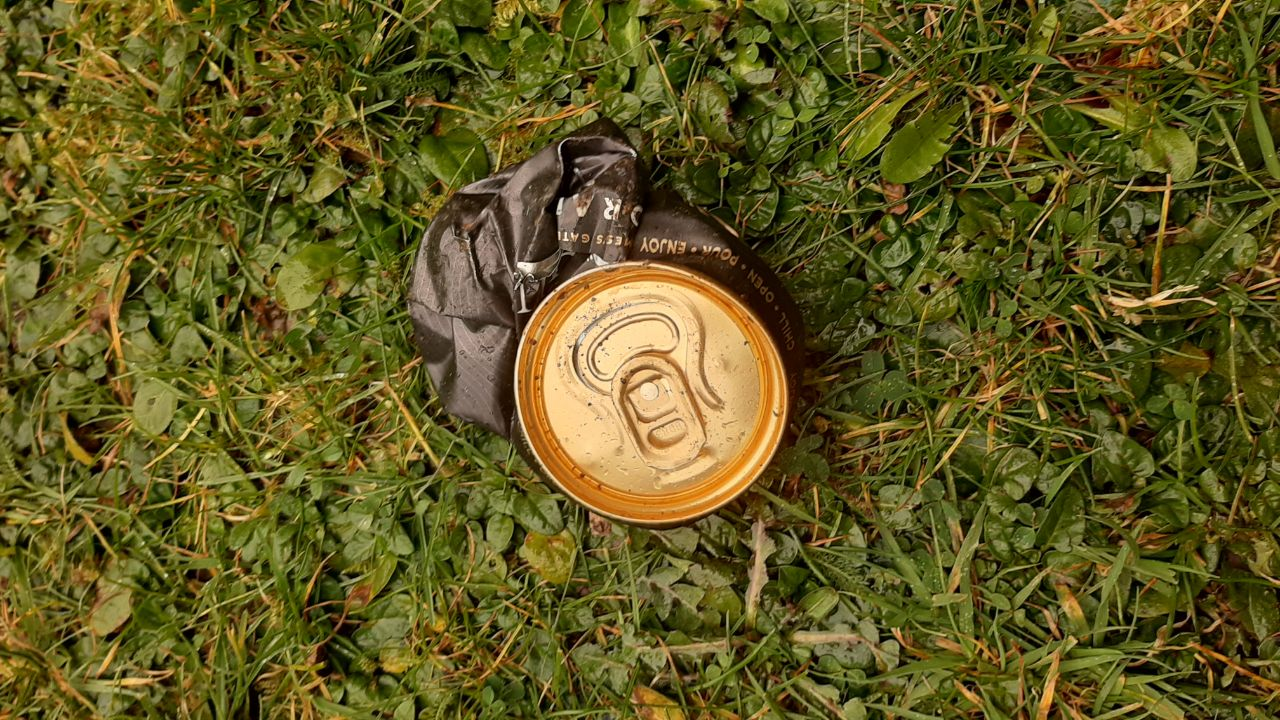Can: (404, 117, 802, 531)
